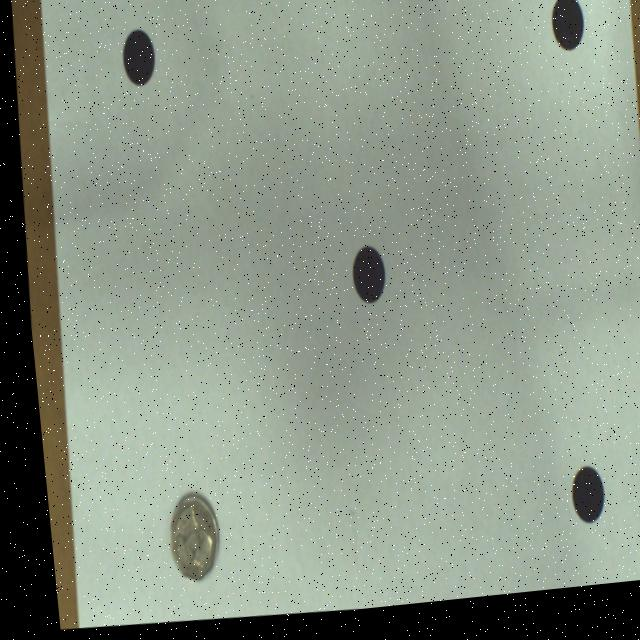head5bath: (159, 498, 207, 582)
space: (160, 496, 206, 582), (550, 5, 582, 64), (346, 253, 379, 309), (121, 32, 153, 88), (560, 477, 592, 533), (550, 7, 582, 62)
